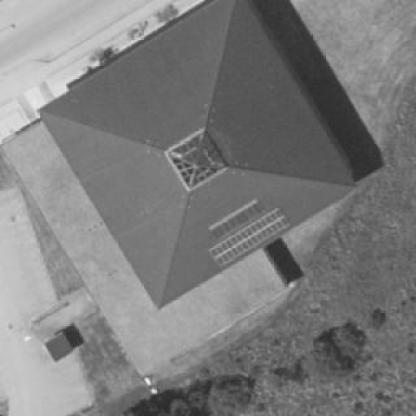solar-pv-panel: (208, 207, 290, 266), (211, 200, 265, 239)
